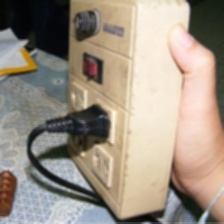three_eye_plug: (61, 0, 193, 224)
